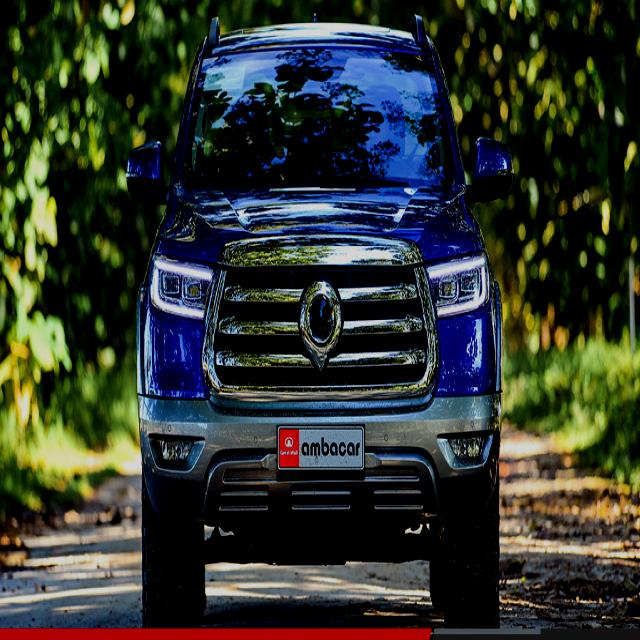CMT: (133, 11, 501, 636)
